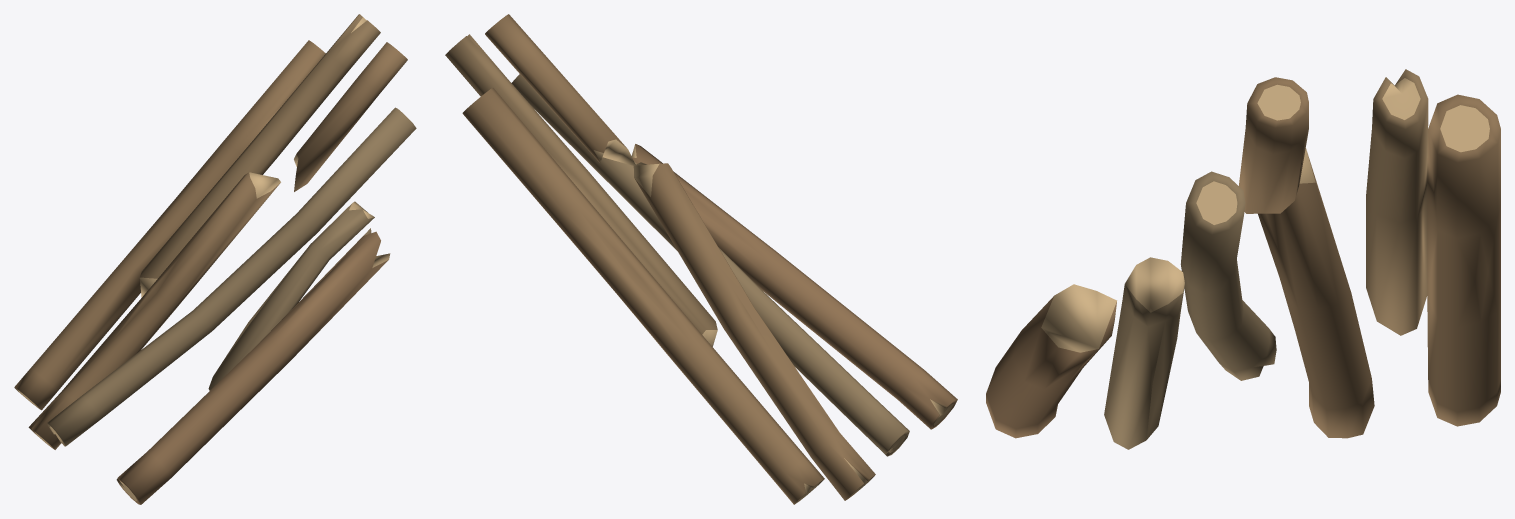
The model's file is rpgpp_av_roof_01_6x3x3_half_d.gltf.
The picture shows the model from 3 angles, left to right: view 1: azimuth 30°, elevation 25°; view 2: azimuth 150°, elevation 25°; view 3: azimuth 270°, elevation 25°; orthographic projection. The views are drawn at different scales.
Visible parts, largest first — view 1: rpgpp_av_roof_01_6x3x3_half_d; view 2: rpgpp_av_roof_01_6x3x3_half_d; view 3: rpgpp_av_roof_01_6x3x3_half_d.
Boxes of the visible parts, <box> form: rpgpp_av_roof_01_6x3x3_half_d: <box>14,14,416,504</box>; rpgpp_av_roof_01_6x3x3_half_d: <box>445,14,957,504</box>; rpgpp_av_roof_01_6x3x3_half_d: <box>986,69,1500,449</box>.
Size of the model in its own units: 0.0496 by 0.0441 by 0.03.
1 material, 1 textured.
